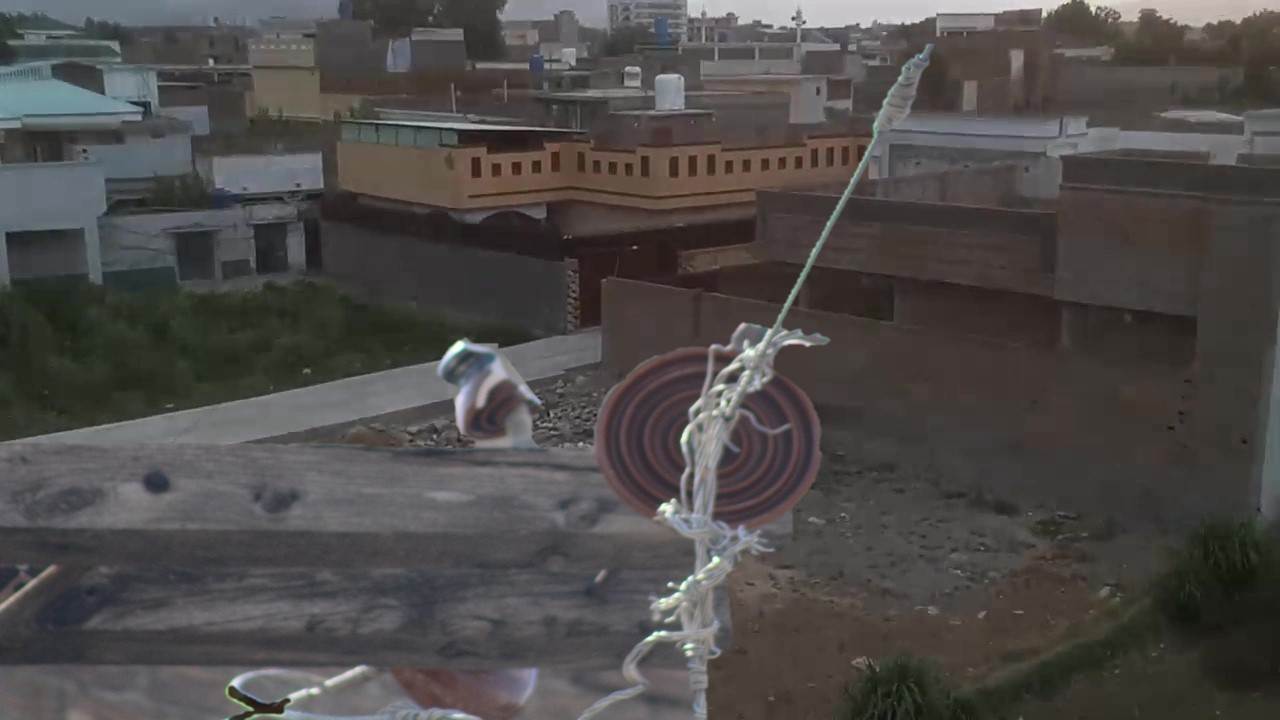defect_pin: (434, 327, 552, 444)
insulator_disc: (589, 330, 830, 538)
